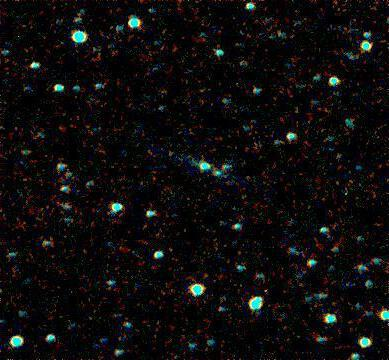star: (157, 141, 187, 171)
